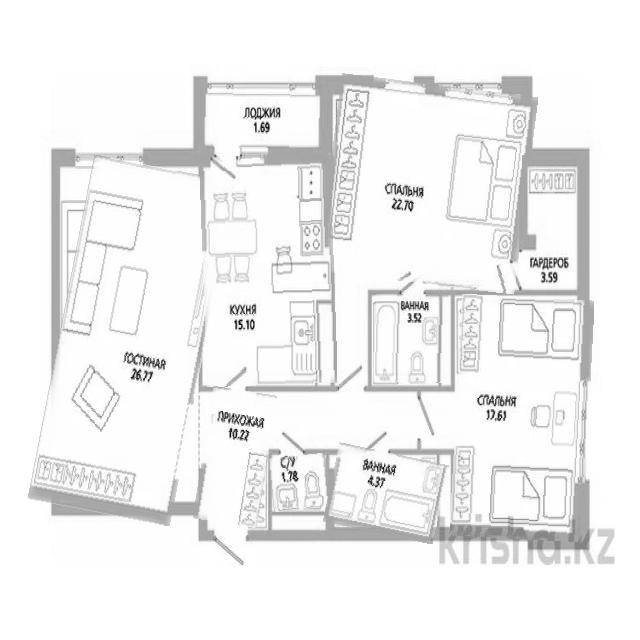balcony: (201, 85, 321, 149)
bathroom: (326, 448, 446, 539), (373, 293, 448, 383), (270, 454, 329, 512)
hallway: (197, 388, 272, 526)
kitchen: (201, 154, 336, 386)
living_room: (43, 160, 220, 521), (323, 78, 532, 289), (452, 295, 591, 541)
other: (522, 155, 586, 297)
